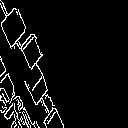cube: (15, 35, 49, 74), (0, 6, 28, 48)
